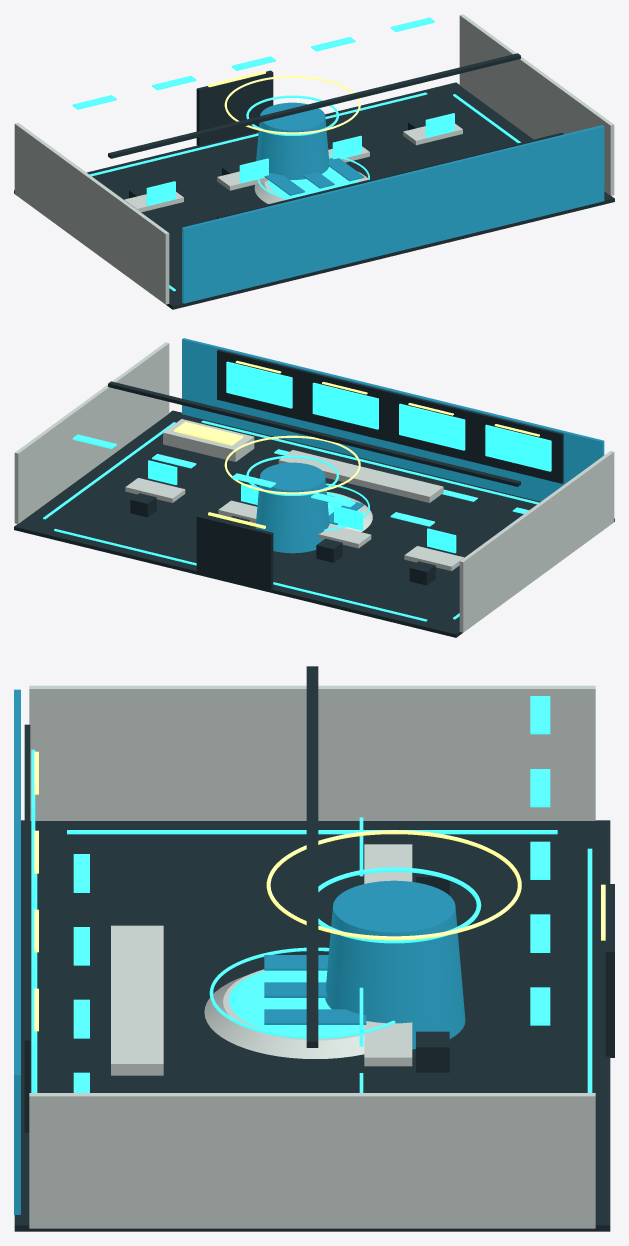
File: tower-floor.glb
The picture shows the model from 3 angles, top to bottom: view 1: azimuth 30°, elevation 25°; view 2: azimuth 150°, elevation 25°; view 3: azimuth 270°, elevation 25°; orthographic projection. The views are drawn at different scales.
Parts seen in each view (by area): view 1: rj-tower-floor-interior-rear-glass-wall, rj-tower-floor-interior-raised-interior-floor, rj-tower-floor-interior-left-wall-frame, rj-tower-floor-interior-right-wall-frame, rj-tower-floor-interior-central-model-core, rj-tower-floor-interior-exit-door-frame, rj-tower-floor-interior-ceiling-spine, rj-tower-floor-interior-screen-wall-backplane, rj-tower-floor-interior-hologram-map-table, rj-tower-floor-interior-front-wayfinding-rail, rj-tower-floor-interior-gold-inference-ring, rj-tower-floor-interior-monitor-1-4 (+10 smaller); view 2: rj-tower-floor-interior-raised-interior-floor, rj-tower-floor-interior-left-wall-frame, rj-tower-floor-interior-rear-glass-wall, rj-tower-floor-interior-right-wall-frame, rj-tower-floor-interior-screen-wall-backplane, rj-tower-floor-interior-central-model-core, rj-tower-floor-interior-exit-door-frame, rj-tower-floor-interior-ceiling-spine, rj-tower-floor-interior-observation-bench, rj-tower-floor-interior-main-display-3, rj-tower-floor-interior-main-display-4, rj-tower-floor-interior-main-display-1 (+18 smaller); view 3: rj-tower-floor-interior-raised-interior-floor, rj-tower-floor-interior-right-wall-frame, rj-tower-floor-interior-left-wall-frame, rj-tower-floor-interior-central-model-core, rj-tower-floor-interior-observation-bench, rj-tower-floor-interior-ceiling-spine, rj-tower-floor-interior-decision-table-base, rj-tower-floor-interior-rear-glass-wall, rj-tower-floor-interior-hologram-map-table, rj-tower-floor-interior-screen-wall-backplane, rj-tower-floor-interior-gold-inference-ring, rj-tower-floor-interior-desk-1-3 (+16 smaller).
Part boxes in pixels (box(x1,y1,x2,y2)): rj-tower-floor-interior-rear-glass-wall: box(182, 125, 604, 303); rj-tower-floor-interior-raised-interior-floor: box(14, 82, 614, 309); rj-tower-floor-interior-left-wall-frame: box(14, 122, 169, 304); rj-tower-floor-interior-right-wall-frame: box(459, 14, 614, 195); rj-tower-floor-interior-central-model-core: box(256, 102, 329, 179); rj-tower-floor-interior-exit-door-frame: box(196, 70, 273, 146); rj-tower-floor-interior-ceiling-spine: box(108, 53, 520, 158); rj-tower-floor-interior-screen-wall-backplane: box(217, 132, 563, 218); rj-tower-floor-interior-hologram-map-table: box(267, 166, 359, 198); rj-tower-floor-interior-front-wayfinding-rail: box(89, 92, 427, 176); rj-tower-floor-interior-gold-inference-ring: box(224, 75, 360, 134); rj-tower-floor-interior-monitor-1-4: box(425, 113, 454, 137); rj-tower-floor-interior-raised-interior-floor: box(14, 410, 614, 637); rj-tower-floor-interior-left-wall-frame: box(459, 451, 614, 632); rj-tower-floor-interior-rear-glass-wall: box(182, 338, 604, 501); rj-tower-floor-interior-right-wall-frame: box(14, 342, 169, 523); rj-tower-floor-interior-screen-wall-backplane: box(217, 349, 563, 483); rj-tower-floor-interior-central-model-core: box(255, 462, 329, 553); rj-tower-floor-interior-exit-door-frame: box(196, 515, 273, 590); rj-tower-floor-interior-ceiling-spine: box(108, 381, 520, 486); rj-tower-floor-interior-observation-bench: box(278, 450, 443, 502); rj-tower-floor-interior-main-display-3: box(312, 382, 378, 429); rj-tower-floor-interior-main-display-4: box(226, 361, 292, 408); rj-tower-floor-interior-main-display-1: box(485, 424, 551, 471); rj-tower-floor-interior-raised-interior-floor: box(14, 820, 610, 1231); rj-tower-floor-interior-right-wall-frame: box(29, 1093, 595, 1228); rj-tower-floor-interior-left-wall-frame: box(29, 685, 595, 820); rj-tower-floor-interior-central-model-core: box(325, 880, 465, 1049); rj-tower-floor-interior-observation-bench: box(111, 925, 163, 1075); rj-tower-floor-interior-ceiling-spine: box(306, 666, 318, 1047); rj-tower-floor-interior-decision-table-base: box(204, 969, 364, 1058); rj-tower-floor-interior-rear-glass-wall: box(14, 689, 20, 1214); rj-tower-floor-interior-hologram-map-table: box(229, 970, 364, 1035); rj-tower-floor-interior-screen-wall-backplane: box(24, 724, 30, 1132); rj-tower-floor-interior-gold-inference-ring: box(266, 830, 521, 940); rj-tower-floor-interior-desk-1-3: box(364, 1021, 412, 1066).
Size of the model in its own units: 16.64 by 3.31 by 10.29.
